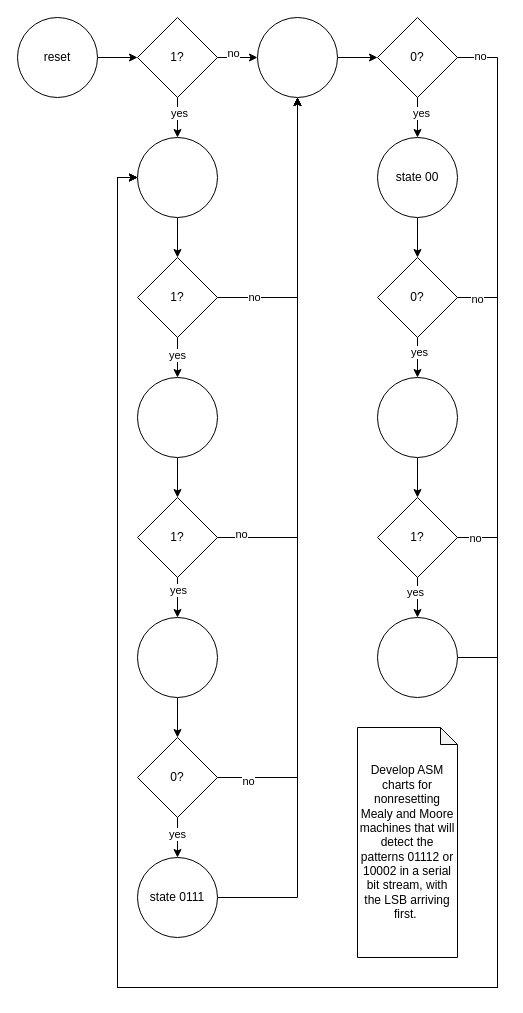
Image size: 523x1013. Some labels were removed from this diagram. Here are the shapes that lost their labels. From the top down, the centre of each, then its label:
[297,57]: state 0
[177,177]: state 1
[177,417]: state 11
[417,417]: state 000
[177,657]: state 111
[417,657]: state 1000
